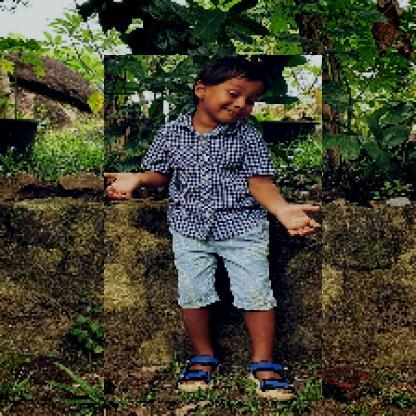child: (105, 56, 324, 403)
